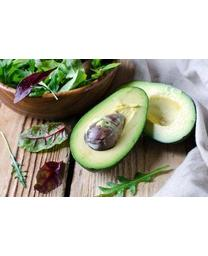avocado: (69, 86, 149, 170), (126, 80, 197, 148)
